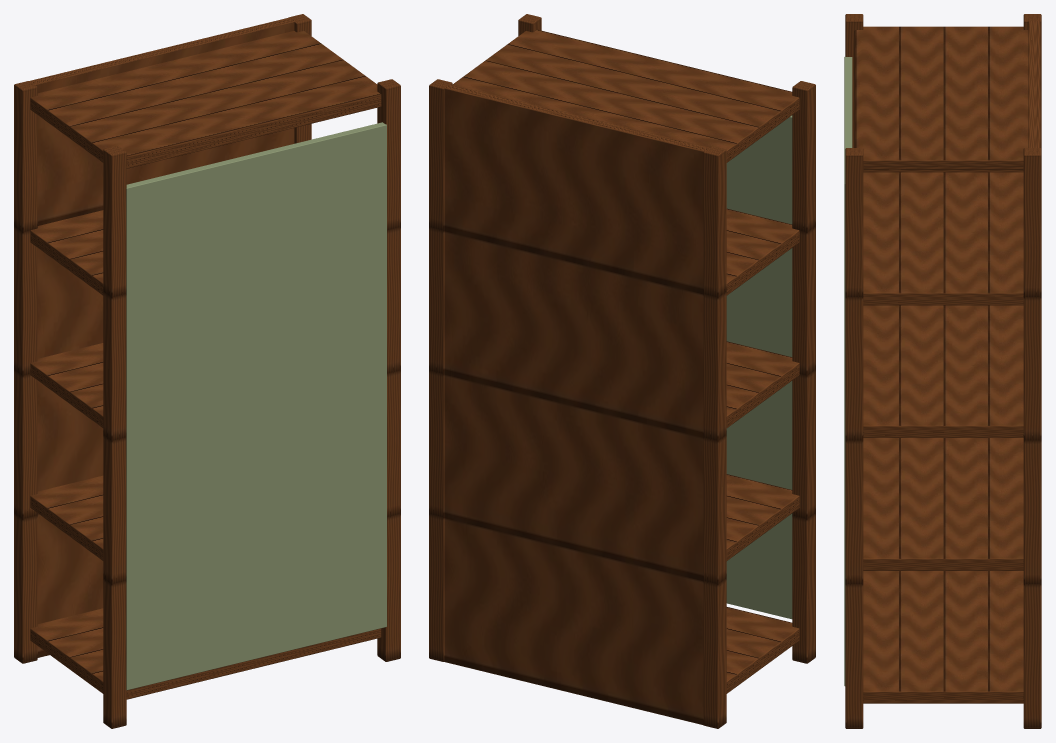
Rendered from survival-food-and-preservation-curing-cabinet-bd870a63__21811.glb.
3 renders of one model, left to right at view 1: azimuth 30°, elevation 25°; view 2: azimuth 150°, elevation 25°; view 3: azimuth 270°, elevation 25°, orthographic.
Parts seen in each view (by area): view 1: door/canvas, curing-cabinet; view 2: curing-cabinet, door/canvas; view 3: curing-cabinet, door/canvas.
Part boxes in pixels (x1,y1,x2,y2): door/canvas: (126, 122, 386, 690); curing-cabinet: (14, 14, 400, 728); curing-cabinet: (429, 14, 815, 728); door/canvas: (726, 115, 792, 619); curing-cabinet: (845, 14, 1041, 728); door/canvas: (844, 56, 852, 685).
Bounding box in the file's own units: 0.845 × 1.6 × 0.4975.
Materials: 2 (1 with a texture image).
